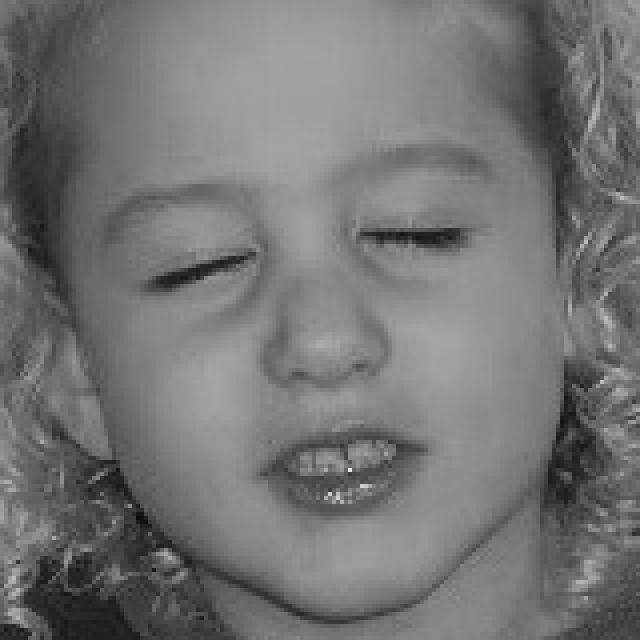real: (63, 10, 562, 618), (134, 206, 482, 306)
